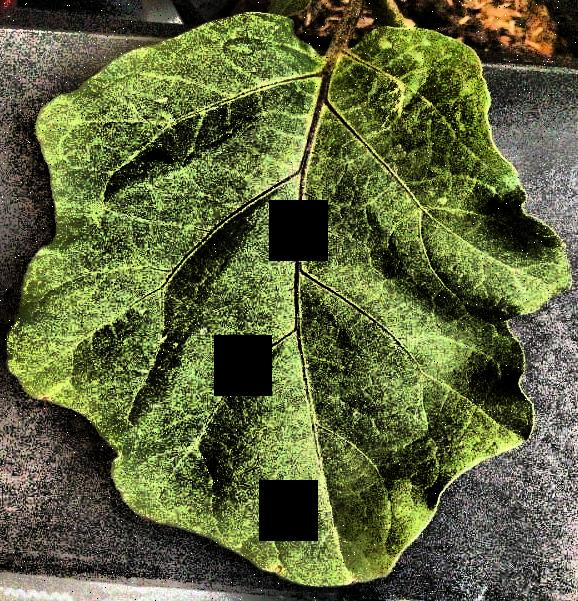HEALTHY: (0, 1, 578, 601)
